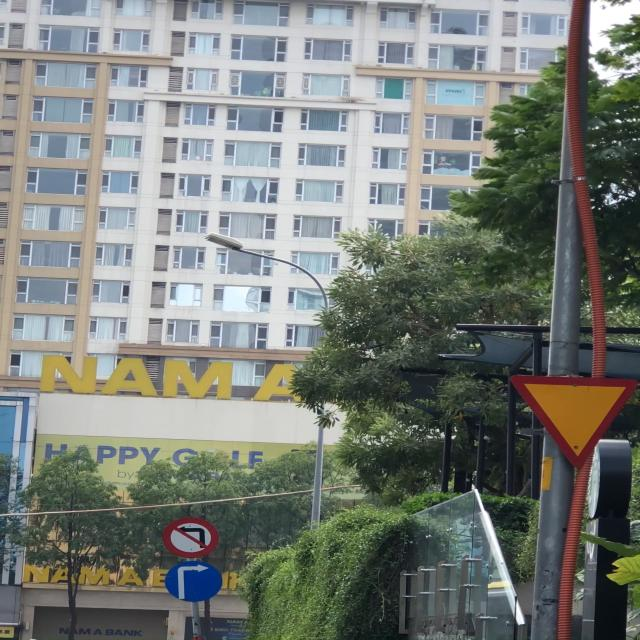Bien bao cam re trai: (163, 513, 224, 560)
Bien bao giao nhau voi duong uu tien: (504, 368, 640, 472)
Bien bao huong di phai theo: (162, 558, 229, 604)
